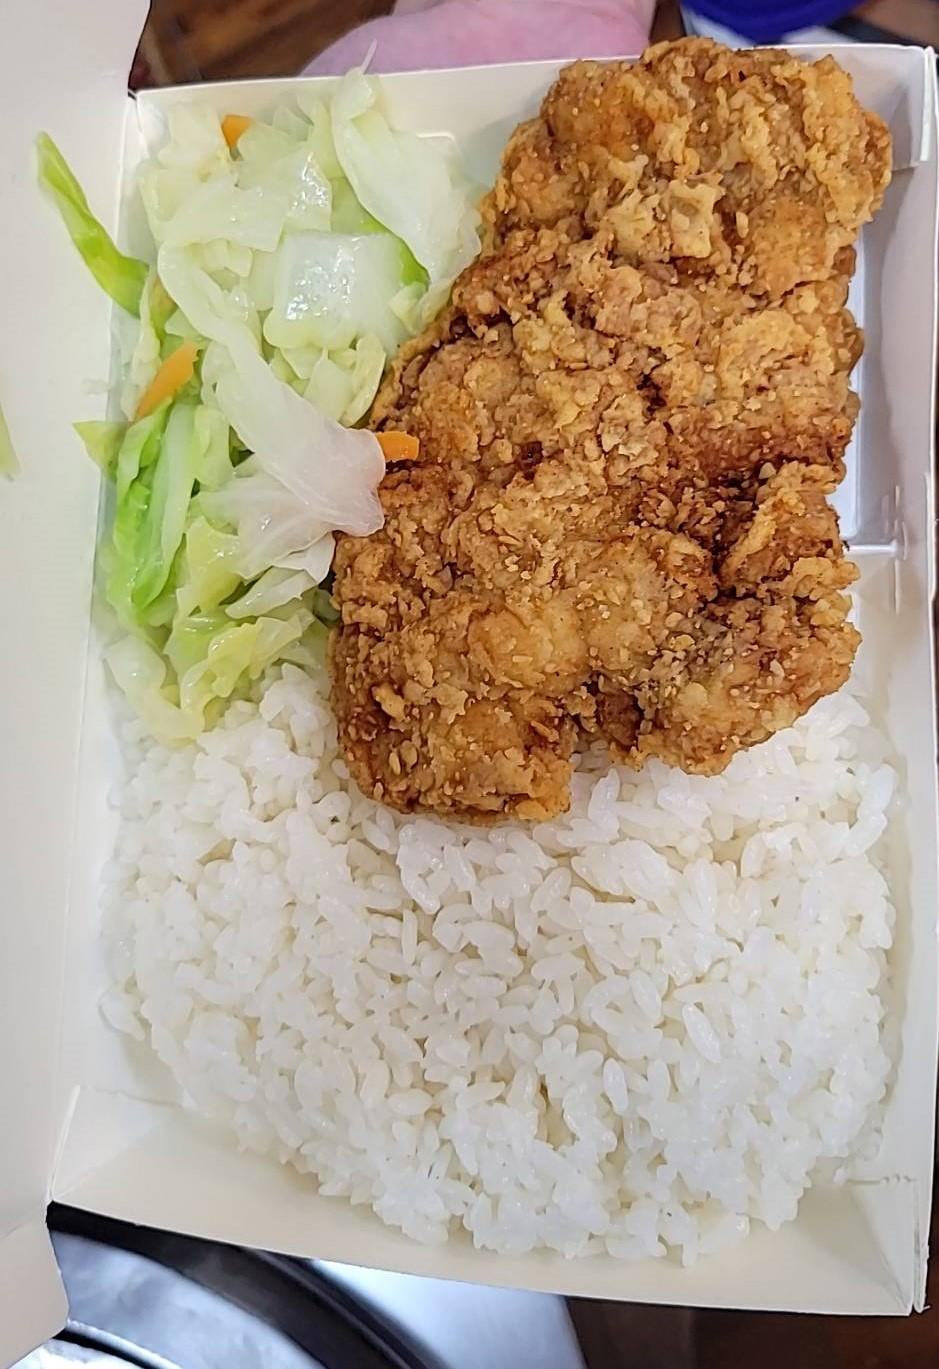big grilled chicken leg: (41, 14, 939, 1342)
big herbal chicken leg: (104, 622, 912, 1257)
braised fish fillet: (68, 91, 421, 721)
braised pork: (314, 24, 908, 833)
